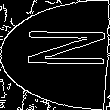N_E: (4, 34, 106, 76)
